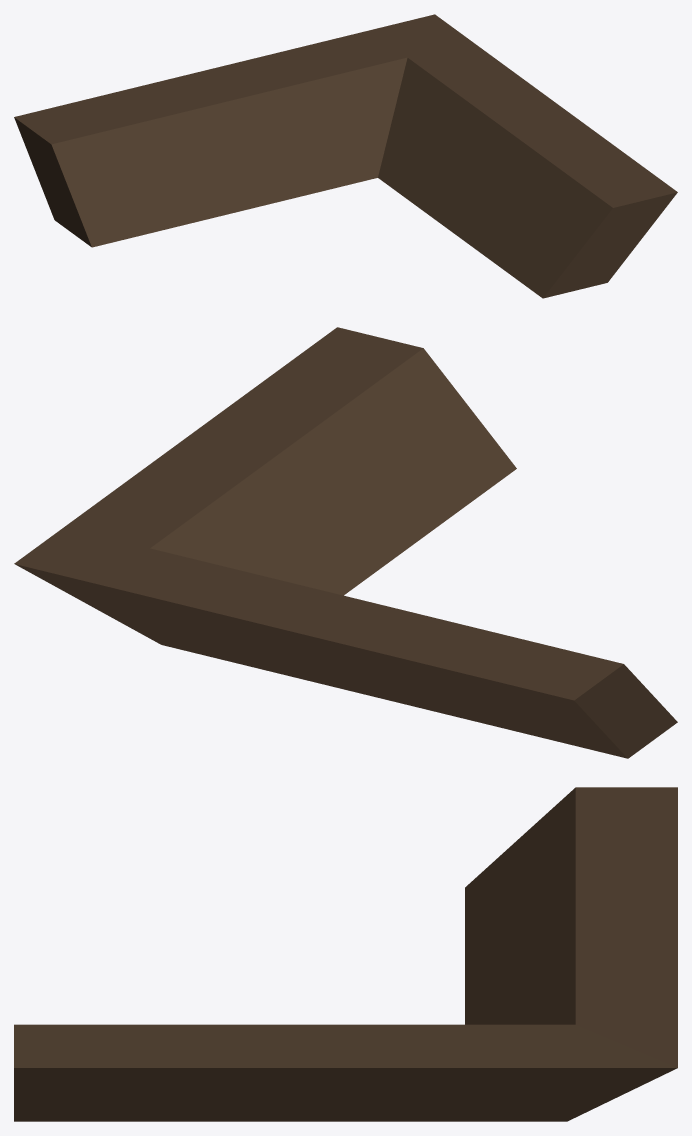
The model's file is buildings-roof-wood-corner-in-edge-bottom.glb.
3 views of the same model, one above another, from view 1: azimuth 30°, elevation 25°; view 2: azimuth 150°, elevation 25°; view 3: azimuth 270°, elevation 25° (orthographic). The views are drawn at different scales.
Visible parts, largest first — view 1: roof-wood-corner-in-edge-bottom; view 2: roof-wood-corner-in-edge-bottom; view 3: roof-wood-corner-in-edge-bottom.
Part boxes in pixels (bbox=[...]): roof-wood-corner-in-edge-bottom: bbox=[14, 14, 677, 298]; roof-wood-corner-in-edge-bottom: bbox=[14, 327, 677, 758]; roof-wood-corner-in-edge-bottom: bbox=[14, 787, 677, 1121].
Size of the model in its own units: 3 by 0.5003 by 3.
